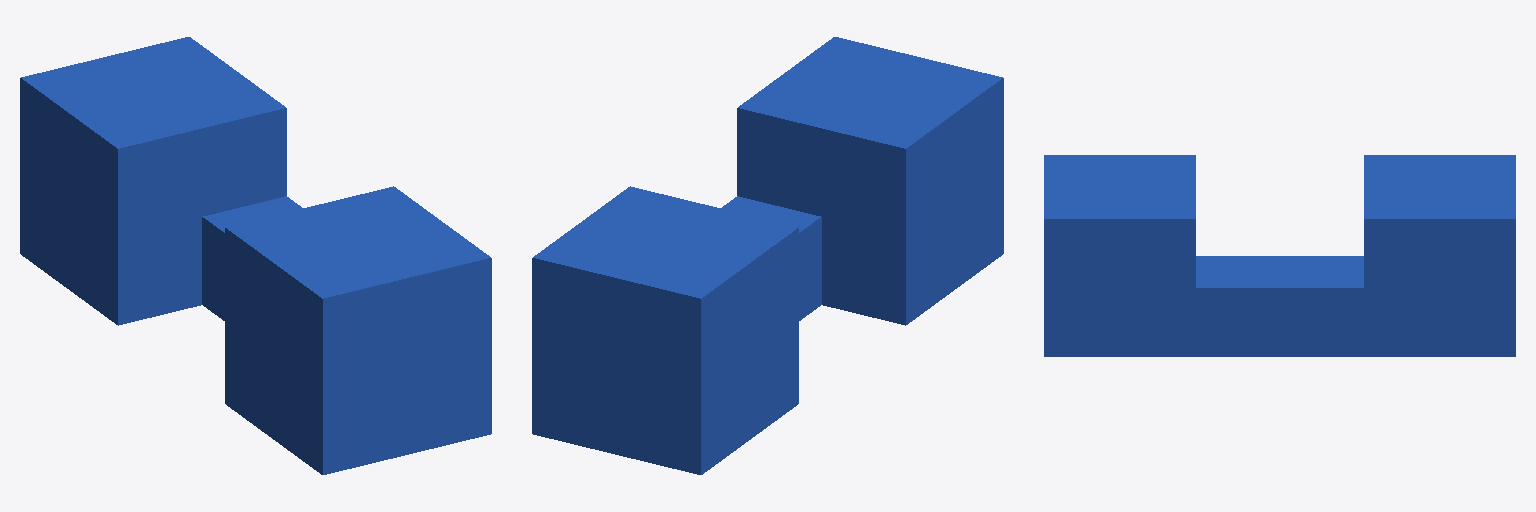
robot.urdf — obj_1:
<robot name="obj_1" version="1.0">
  <link name="obj_1">
    <collision name="keystone-piece-collision.001">
      <origin rpy="0.00000 0.00000 0.00000" xyz="0.00000 0.00000 0.00000"/>
      <geometry>
        <mesh filename="../meshes/obj/keystone-piece-collision.001.obj" scale="1.00000 1.00000 1.00000"/>
      </geometry>
    </collision>
    <collision name="keystone-piece-collision.002">
      <origin rpy="0.00000 0.00000 0.00000" xyz="0.00000 0.00000 0.00000"/>
      <geometry>
        <mesh filename="../meshes/obj/keystone-piece-collision.002.obj" scale="1.00000 1.00000 1.00000"/>
      </geometry>
    </collision>
    <collision name="keystone-piece-collision.003">
      <origin rpy="0.00000 0.00000 0.00000" xyz="0.00000 0.00000 0.00000"/>
      <geometry>
        <mesh filename="../meshes/obj/keystone-piece-collision.003.obj" scale="1.00000 1.00000 1.00000"/>
      </geometry>
    </collision>
    <inertial>
      <inertia ixx="0.00001" ixy="0.00000" ixz="0.00000" iyy="0.00000" iyz="-0.00000" izz="0.00001"/>
      <origin rpy="0.00000 0.00000 0.00000" xyz="-0.20461 0.18685 0.28419"/>
      <mass value="0.00500"/>
    </inertial>
    <visual name="keystone-piece">
      <material name="turnarrow"/>
      <origin rpy="1.57080 0.00000 -1.57080" xyz="-0.20612 0.18685 0.28570"/>
      <geometry>
        <mesh filename="../meshes/obj/keystone-piece.obj" scale="0.00500 0.00500 0.00500"/>
      </geometry>
    </visual>
  </link>
  <material name="turnarrow">
    <color rgba="0.23137 0.44706 0.80000 1.00000"/>
  </material>
</robot>

--- Render facts (derived) ---
Views: 3 orthographic renders of the robot side by side, from view 1: azimuth 30°, elevation 25°; view 2: azimuth 150°, elevation 25°; view 3: azimuth 270°, elevation 25°.
Model obj_1 with 1 links and 0 joints (none), rooted at obj_1, posed every joint at zero.
Visible links, largest first — view 1: obj_1; view 2: obj_1; view 3: obj_1.
Link boxes in pixels (x1=…): obj_1: x1=20, y1=37, x2=491, y2=474; obj_1: x1=532, y1=37, x2=1003, y2=474; obj_1: x1=1044, y1=155, x2=1515, y2=356.
Size in the robot's own frame: 0.05 by 0.155 by 0.05 metres.
Meshes: 1 distinct files referenced, 1 mesh visuals loaded (1 OBJ).